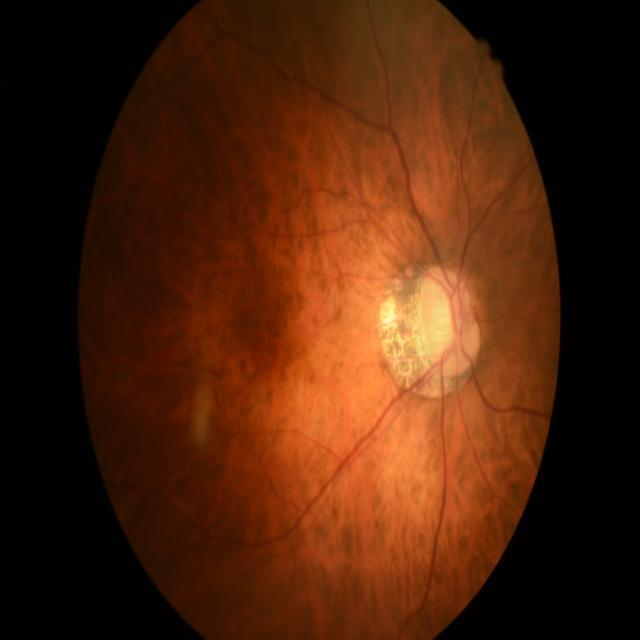cup: (426, 276, 468, 362)
disk: (416, 266, 480, 376)
